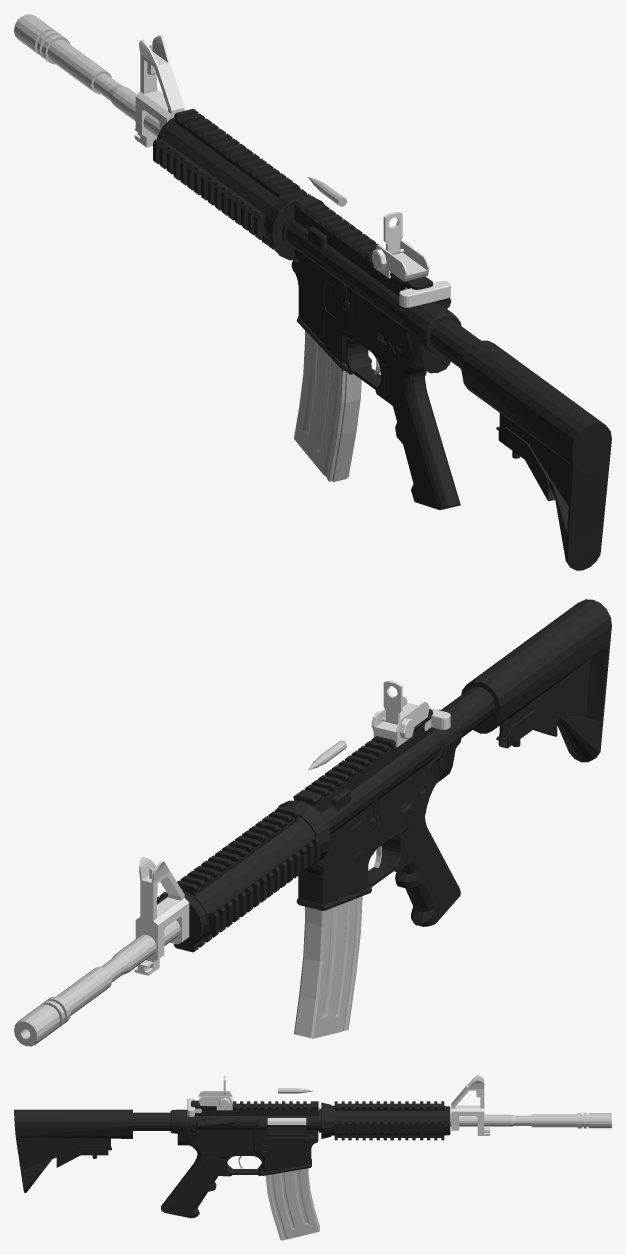
The picture shows the model from 3 angles, top to bottom: view 1: azimuth 30°, elevation 25°; view 2: azimuth 150°, elevation 25°; view 3: azimuth 270°, elevation 25°; orthographic projection. The views are drawn at different scales.
Visible parts, largest first — view 1: Cabo, Pente, Mira, Cano; view 2: Cabo, Pente, Mira, Cano; view 3: Cabo, Pente, Mira, Cano.
Boxes of the visible parts, x1,y1,x2,y2 form: Cabo: [153, 108, 611, 570]; Pente: [294, 331, 361, 481]; Mira: [134, 35, 450, 307]; Cano: [14, 14, 159, 136]; Cabo: [157, 599, 611, 952]; Pente: [294, 896, 362, 1038]; Mira: [134, 680, 450, 975]; Cano: [14, 920, 180, 1046]; Cabo: [14, 1100, 450, 1218]; Pente: [265, 1168, 319, 1240]; Mira: [187, 1075, 490, 1135]; Cano: [450, 1113, 611, 1128].
Bounding box in the file's own units: 1.96 × 29.94 × 8.9.
